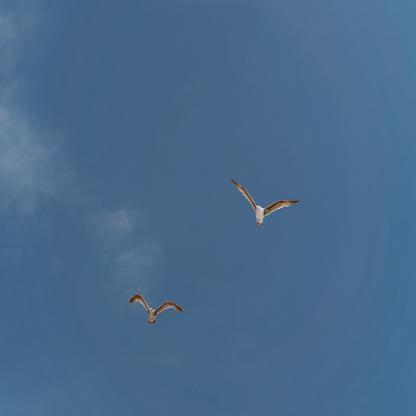bird: (231, 177, 301, 228), (127, 294, 185, 324)
